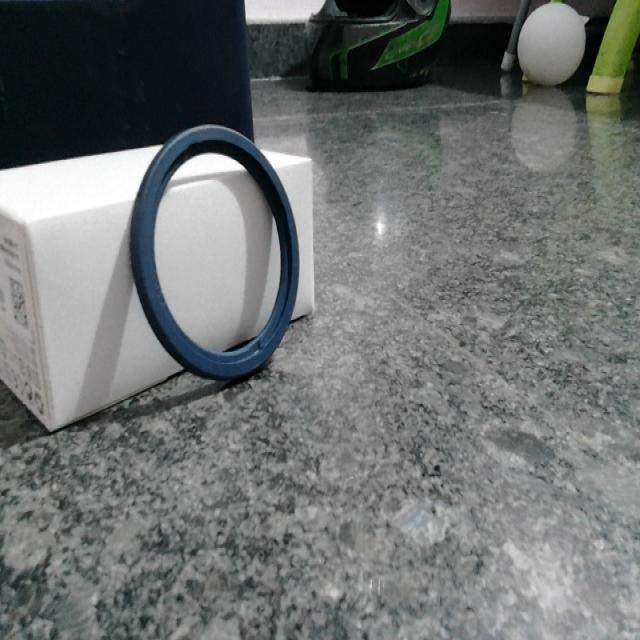cobalt-blue-ring: (131, 125, 299, 380)
